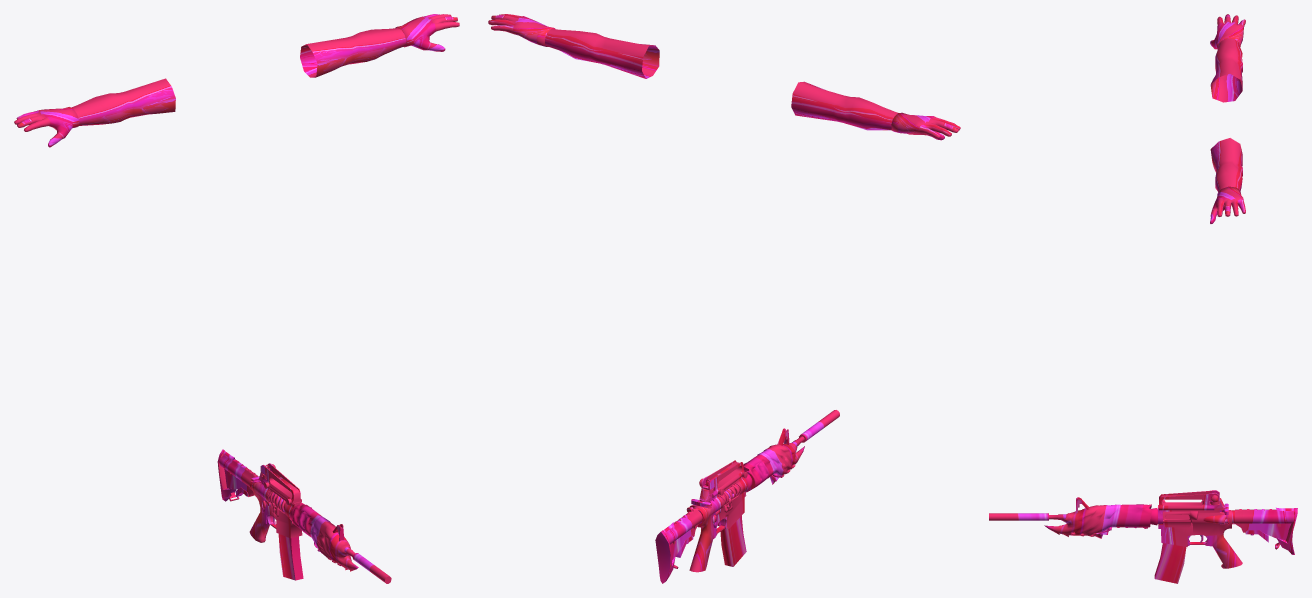
File: PV-M4A1_S_BornBeast.obj
The picture shows the model from 3 angles, left to right: view 1: azimuth 30°, elevation 25°; view 2: azimuth 150°, elevation 25°; view 3: azimuth 270°, elevation 25°; orthographic projection. The views are drawn at different scales.
Parts seen in each view (by area): view 1: PV-M4A1_S_BornBeast_M4A1S_BornBeast, PV-M4A1_S_BornBeast_Fview-arm2, PV-M4A1_S_BornBeast_Fview-hand2, PV-M4A1_S_BornBeast_M4A1S_BornBeast01; view 2: PV-M4A1_S_BornBeast_M4A1S_BornBeast, PV-M4A1_S_BornBeast_Fview-arm2, PV-M4A1_S_BornBeast_Fview-hand2, PV-M4A1_S_BornBeast_M4A1S_BornBeast01; view 3: PV-M4A1_S_BornBeast_M4A1S_BornBeast, PV-M4A1_S_BornBeast_Fview-arm2, PV-M4A1_S_BornBeast_Fview-hand2, PV-M4A1_S_BornBeast_M4A1S_BornBeast01.
Boxes of the visible parts, x1=… form: PV-M4A1_S_BornBeast_M4A1S_BornBeast: x1=217, y1=449, x2=391, y2=583; PV-M4A1_S_BornBeast_Fview-arm2: x1=71, y1=28, x2=406, y2=125; PV-M4A1_S_BornBeast_Fview-hand2: x1=14, y1=14, x2=459, y2=147; PV-M4A1_S_BornBeast_M4A1S_BornBeast01: x1=278, y1=534, x2=303, y2=580; PV-M4A1_S_BornBeast_M4A1S_BornBeast: x1=655, y1=410, x2=839, y2=583; PV-M4A1_S_BornBeast_Fview-arm2: x1=545, y1=29, x2=897, y2=130; PV-M4A1_S_BornBeast_Fview-hand2: x1=488, y1=14, x2=960, y2=140; PV-M4A1_S_BornBeast_M4A1S_BornBeast01: x1=720, y1=516, x2=746, y2=566; PV-M4A1_S_BornBeast_M4A1S_BornBeast: x1=989, y1=490, x2=1297, y2=568; PV-M4A1_S_BornBeast_Fview-arm2: x1=1210, y1=38, x2=1242, y2=192; PV-M4A1_S_BornBeast_Fview-hand2: x1=1210, y1=14, x2=1245, y2=223; PV-M4A1_S_BornBeast_M4A1S_BornBeast01: x1=1154, y1=543, x2=1186, y2=583.
Size of the model in its own units: 4.15 by 4.5 by 2.7.
